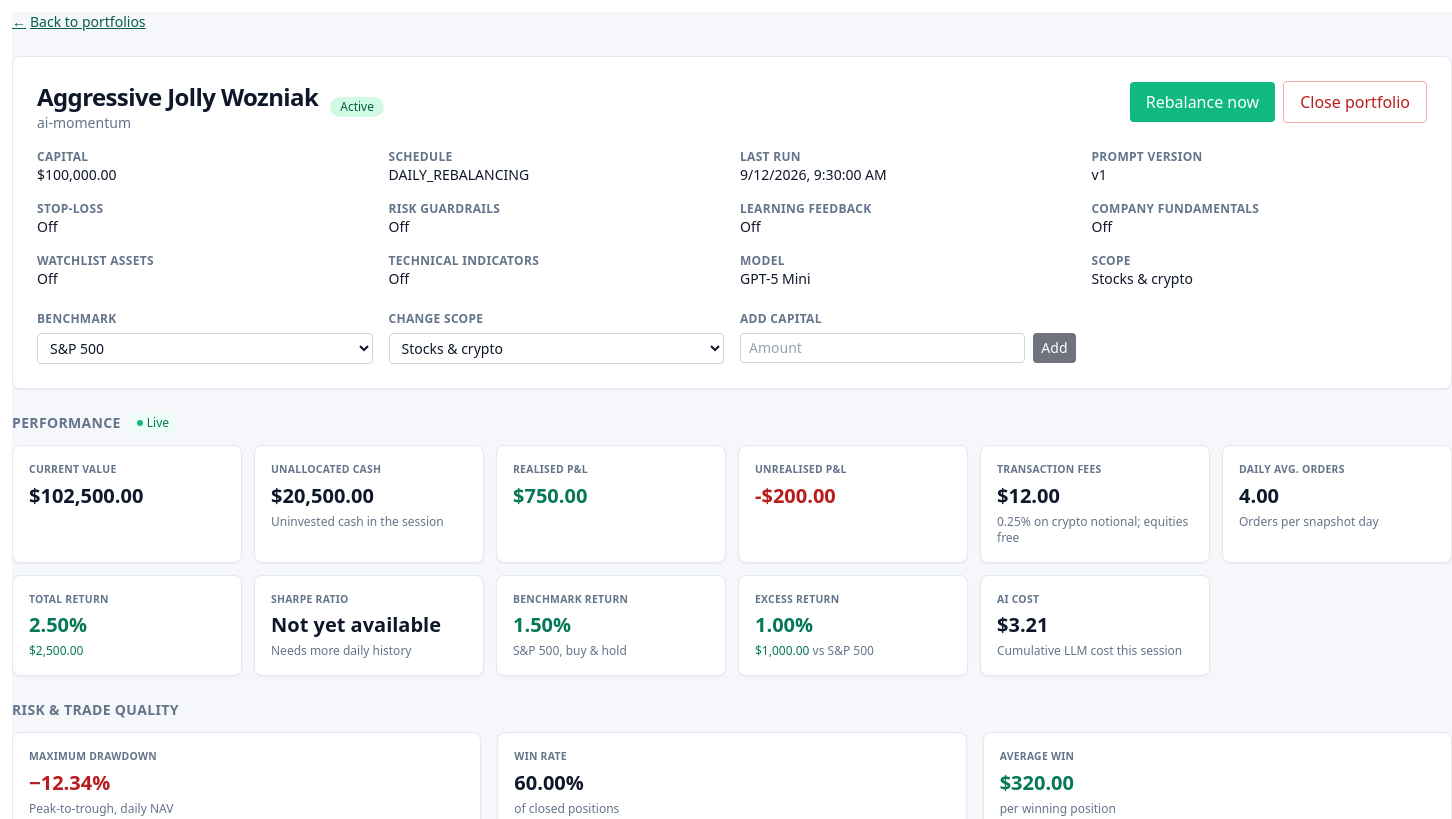
Test case: PaperTradingSessionPage › surfaces an error when the capital increase request fails
Type "5000" into the number field labelled "Add capital".
click(883, 348); type("5000")  # box x1=740 y1=333 x2=1025 y2=363
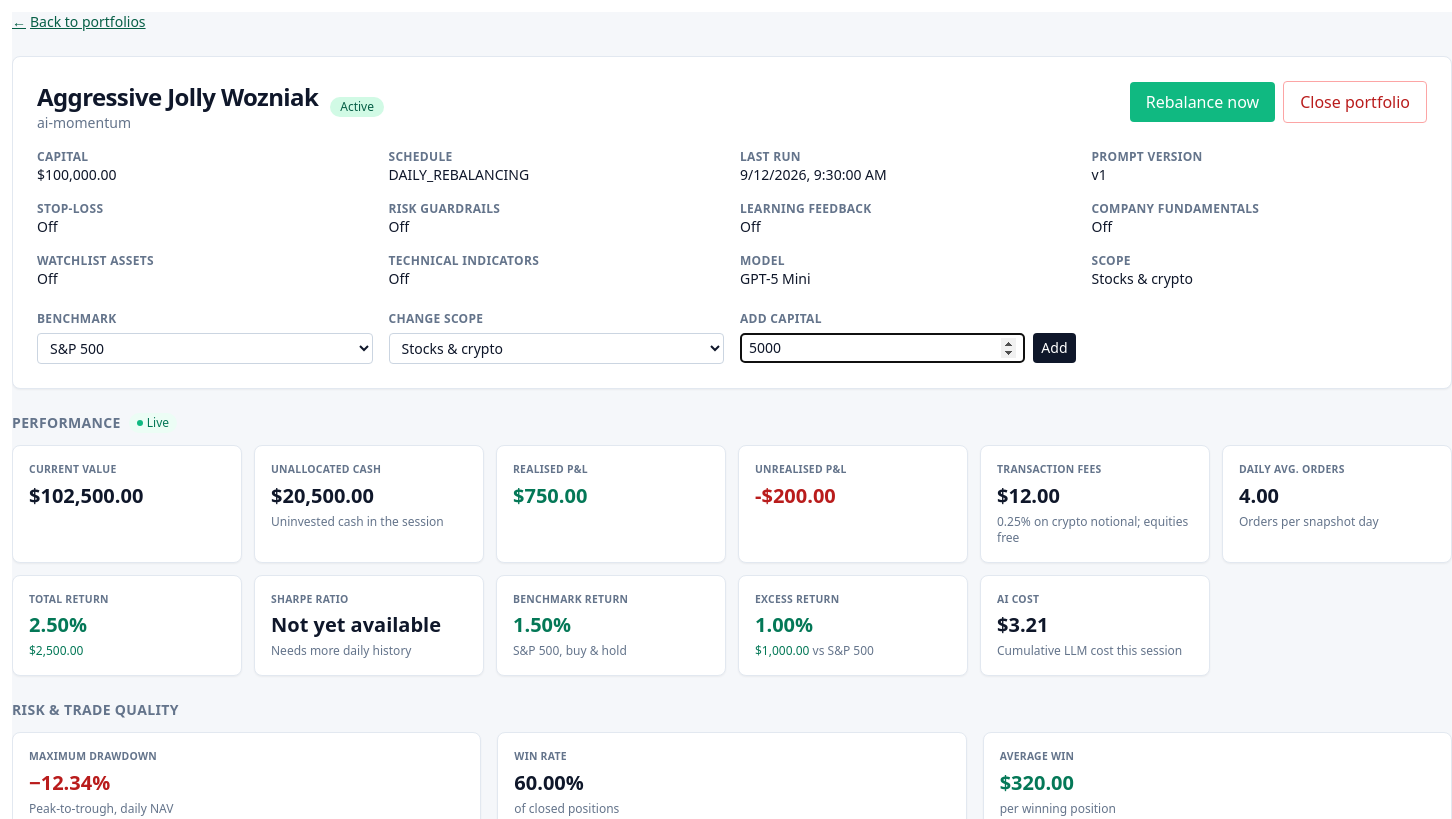
Click the button "Add".
click(1054, 348)  # box x1=1033 y1=333 x2=1076 y2=363
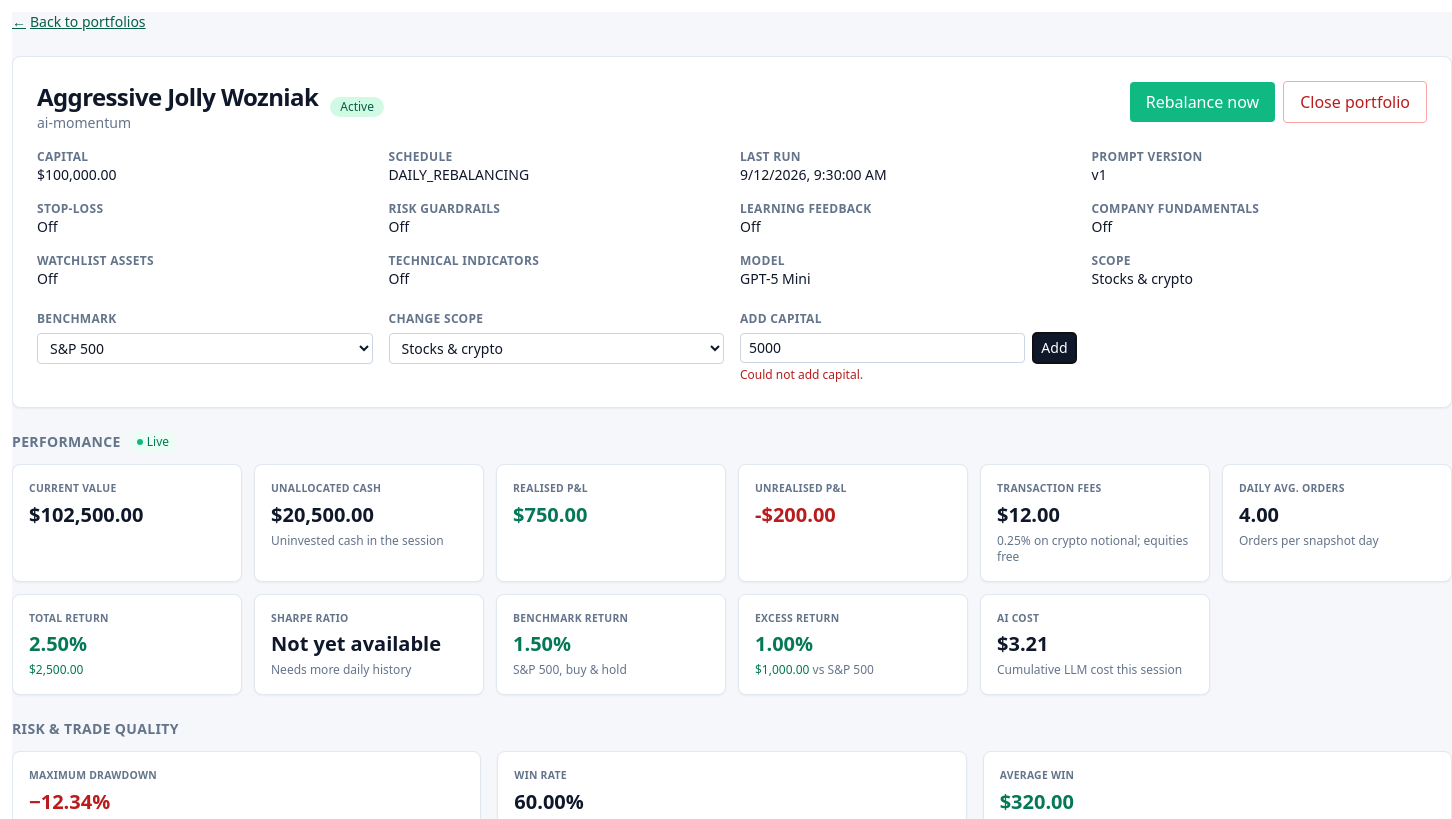
Expected: the text "Could not add capital." is shown, x1=740 y1=366 x2=863 y2=383
